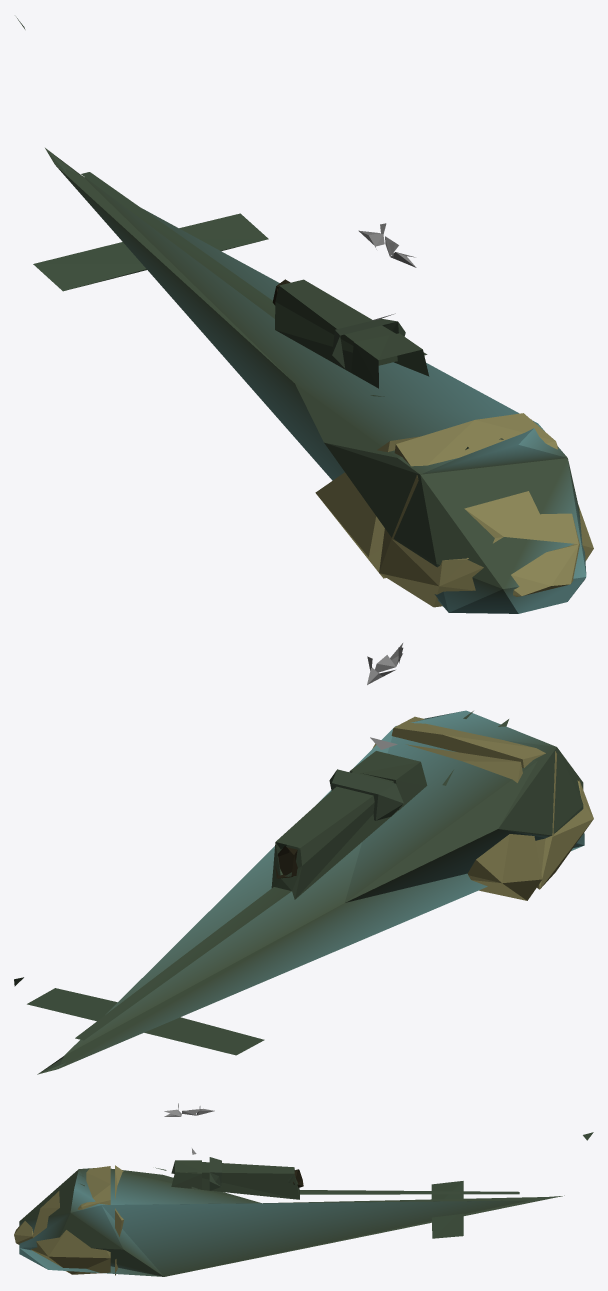
File: uh1-medevac.lod2.glb
The picture shows the model from 3 angles, top to bottom: view 1: azimuth 30°, elevation 25°; view 2: azimuth 150°, elevation 25°; view 3: azimuth 270°, elevation 25°; orthographic projection. The views are drawn at different scales.
Visible parts, largest first — view 1: Cylinder22-FACES; view 2: Cylinder22-FACES; view 3: Cylinder22-FACES.
Part boxes in pixels (bbox=[...]): Cylinder22-FACES: bbox=[16, 17, 593, 613]; Cylinder22-FACES: bbox=[14, 643, 593, 1074]; Cylinder22-FACES: bbox=[14, 1103, 593, 1276].
Size of the model in its own units: 2.54 by 3.32 by 11.27.
